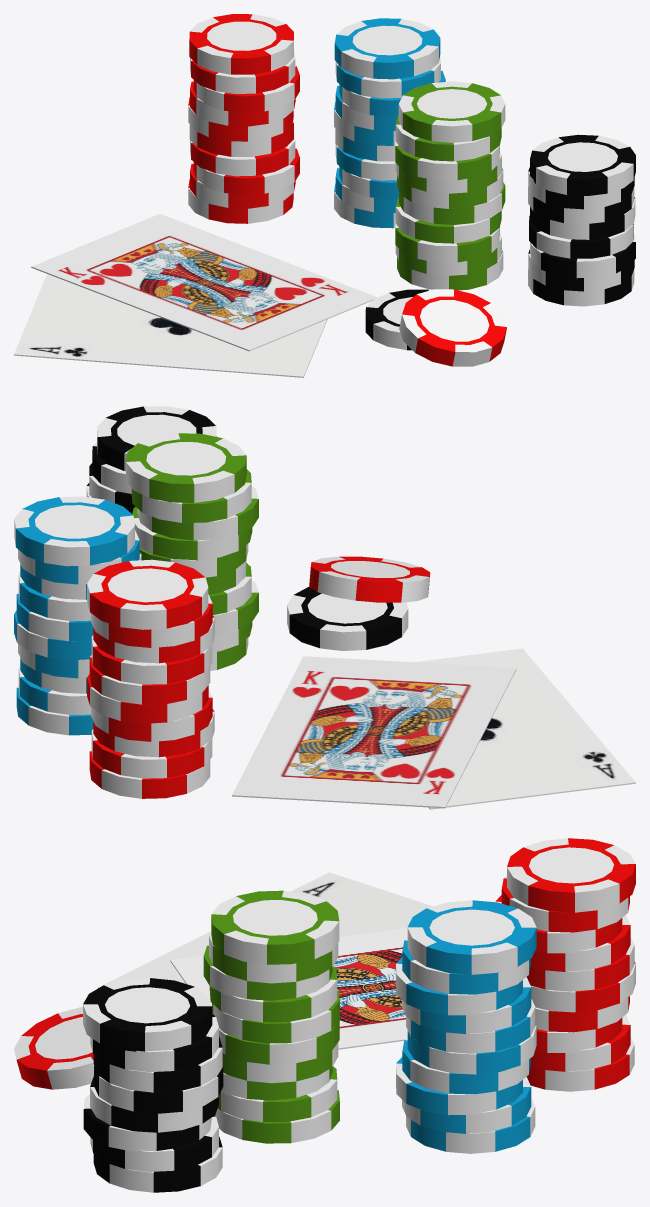
File: chips-cards.glb
The picture shows the model from 3 angles, top to bottom: view 1: azimuth 30°, elevation 25°; view 2: azimuth 150°, elevation 25°; view 3: azimuth 270°, elevation 25°; orthographic projection. The views are drawn at different scales.
Parts seen in each view (by area): view 1: Plane_2, Plane_3, Cylinder_49, Cylinder_39, Cylinder_29, Cylinder_48, Cylinder_9, Cylinder_43, Cylinder_18, Cylinder_33, Cylinder_13, Cylinder_44 (+30 smaller); view 2: Plane_2, Plane_3, Cylinder_9, Cylinder_39, Cylinder_29, Cylinder_40, Cylinder_49, Cylinder_48, Cylinder_16, Cylinder_11, Cylinder_30, Cylinder_10 (+25 smaller); view 3: Plane_2, Cylinder_29, Cylinder_39, Cylinder_9, Cylinder_48, Plane_3, Cylinder_49, Cylinder_37, Cylinder_28, Cylinder_45, Cylinder_42, Cylinder_47 (+29 smaller).
Part boxes in pixels (box(x1,y1,x2,y2)): Plane_2: box(31, 214, 377, 351); Plane_3: box(14, 274, 327, 377); Cylinder_49: box(399, 289, 506, 366); Cylinder_39: box(398, 81, 505, 142); Cylinder_29: box(334, 18, 440, 79); Cylinder_48: box(530, 134, 635, 195); Cylinder_9: box(189, 14, 293, 74); Cylinder_43: box(530, 233, 635, 278); Cylinder_18: box(190, 50, 295, 93); Cylinder_33: box(395, 219, 499, 262); Cylinder_13: box(190, 132, 295, 176); Cylinder_44: box(529, 215, 633, 258); Plane_2: box(232, 656, 516, 808); Plane_3: box(414, 648, 635, 809); Cylinder_9: box(87, 559, 208, 629); Cylinder_39: box(126, 433, 246, 502); Cylinder_29: box(14, 496, 134, 566); Cylinder_40: box(287, 587, 408, 650); Cylinder_49: box(309, 556, 430, 602); Cylinder_48: box(97, 406, 216, 471); Cylinder_16: box(91, 635, 212, 684); Cylinder_11: box(91, 729, 212, 778); Cylinder_30: box(131, 469, 251, 522); Cylinder_10: box(89, 749, 210, 798); Plane_2: box(170, 928, 407, 1049); Cylinder_29: box(407, 900, 536, 974); Cylinder_39: box(211, 890, 339, 964); Cylinder_9: box(507, 838, 635, 912); Cylinder_48: box(83, 978, 212, 1051); Plane_3: box(98, 872, 432, 988); Cylinder_49: box(14, 1006, 94, 1089); Cylinder_37: box(209, 966, 337, 1022); Cylinder_28: box(396, 957, 522, 1015); Cylinder_45: box(94, 1066, 223, 1113); Cylinder_42: box(90, 1115, 218, 1171); Cylinder_47: box(90, 1014, 218, 1072).
Bounding box in the file's own units: 5.9 × 1.73 × 4.81.
Materials: 8 (3 with a texture image).
